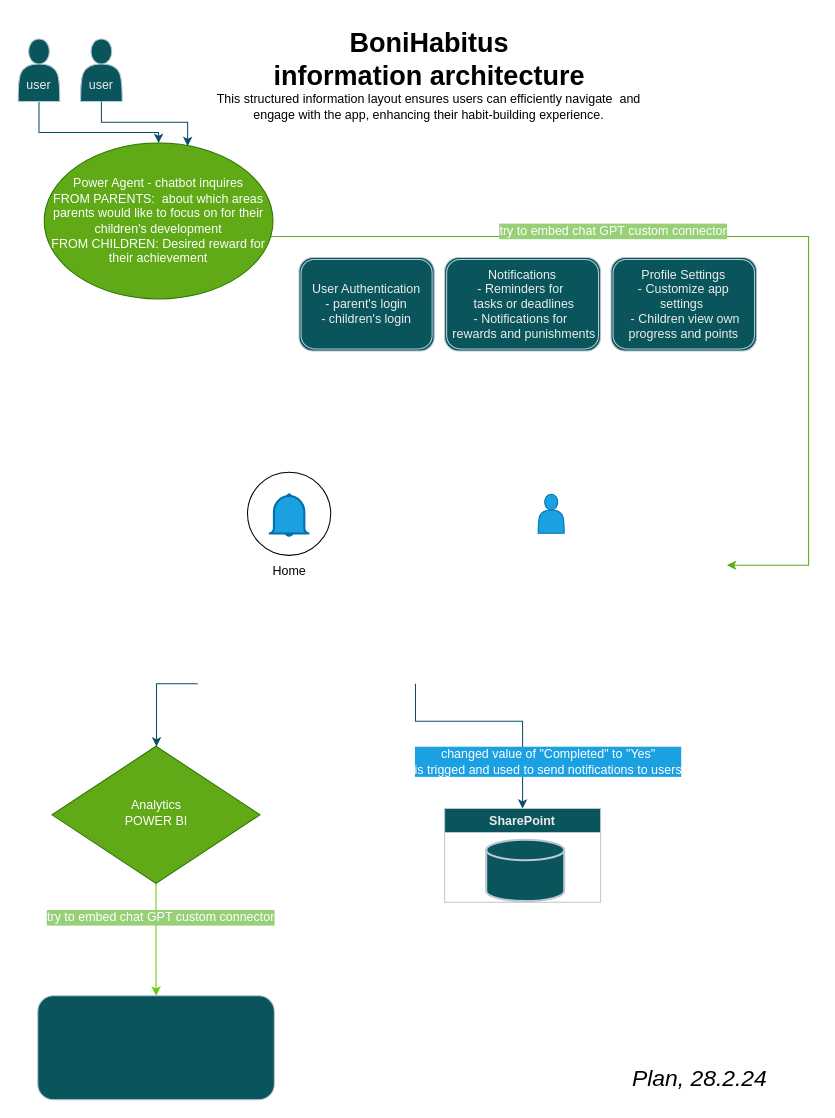
Some shapes in this 835 by 1118 pixel diagram are drawn without their labels. Here are the shapes that lost their labels. From the top down, the centre of each, then its label:
At pixel 525 870: "Datasource".
At pixel 155 1047: "Send by email to parents with completed tasks and advices for future development".
